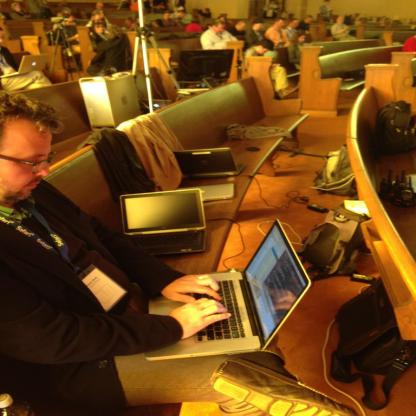board: (146, 218, 310, 359), (120, 188, 204, 252), (172, 148, 245, 176), (0, 54, 49, 78)
